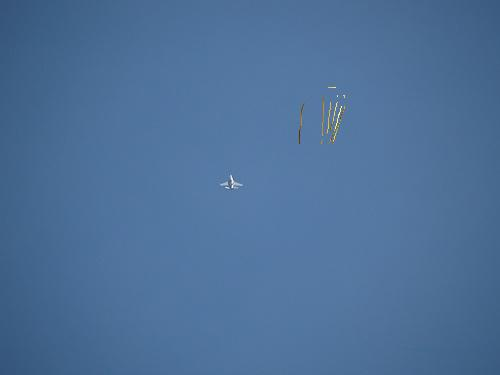tampered: (300, 88, 345, 144)
